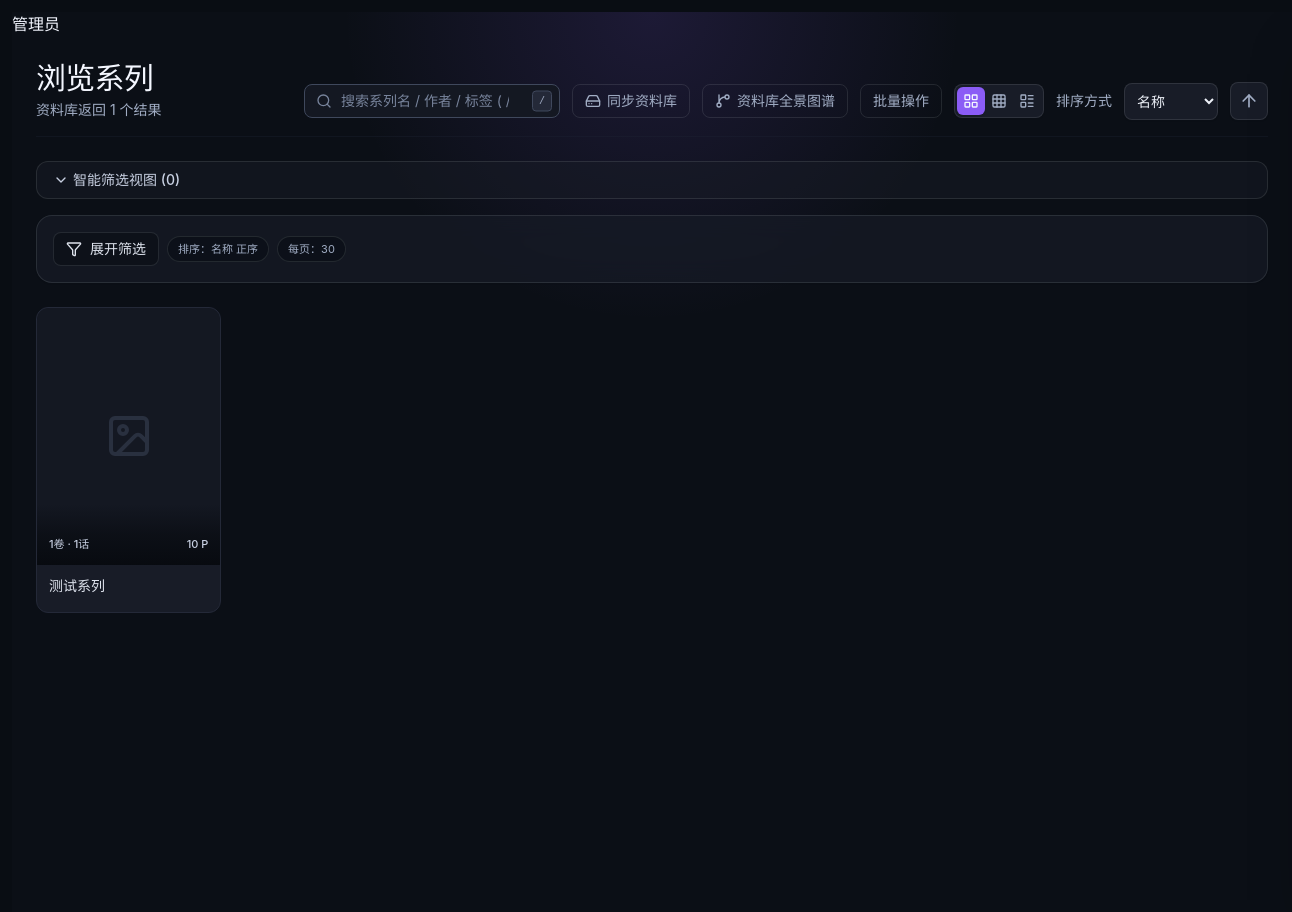
Test: 资料库页的管理员动作 › 管理员一切照旧：卡片动作与整条批量操作栏都在
Expected: the text "管理员" is shown, left=12, top=14, right=60, bottom=34
Click the button "批量操作".
click(901, 101)  # box left=860, top=84, right=942, bottom=118
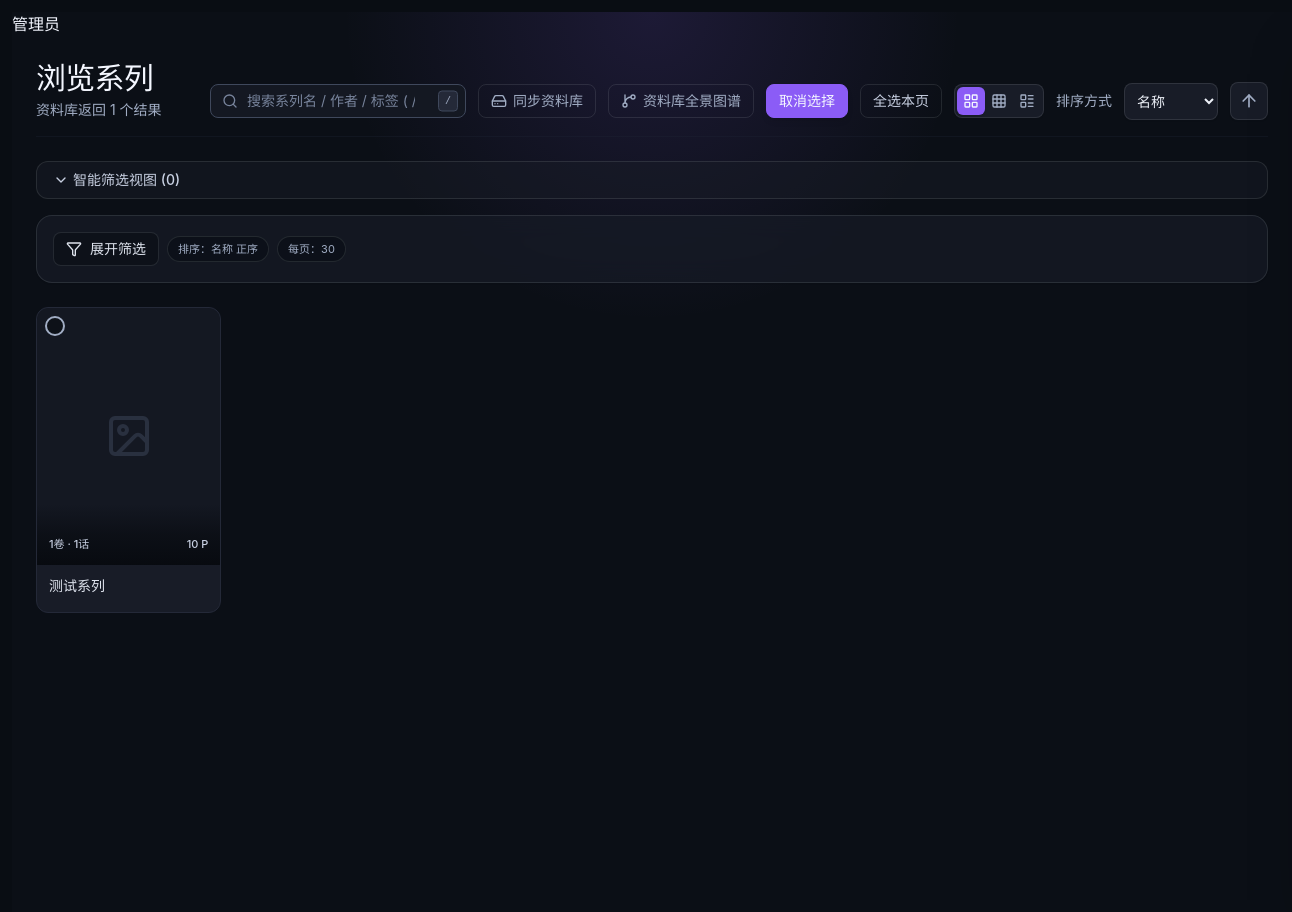
Click the button "全选本页".
click(901, 101)  # box left=860, top=84, right=942, bottom=118
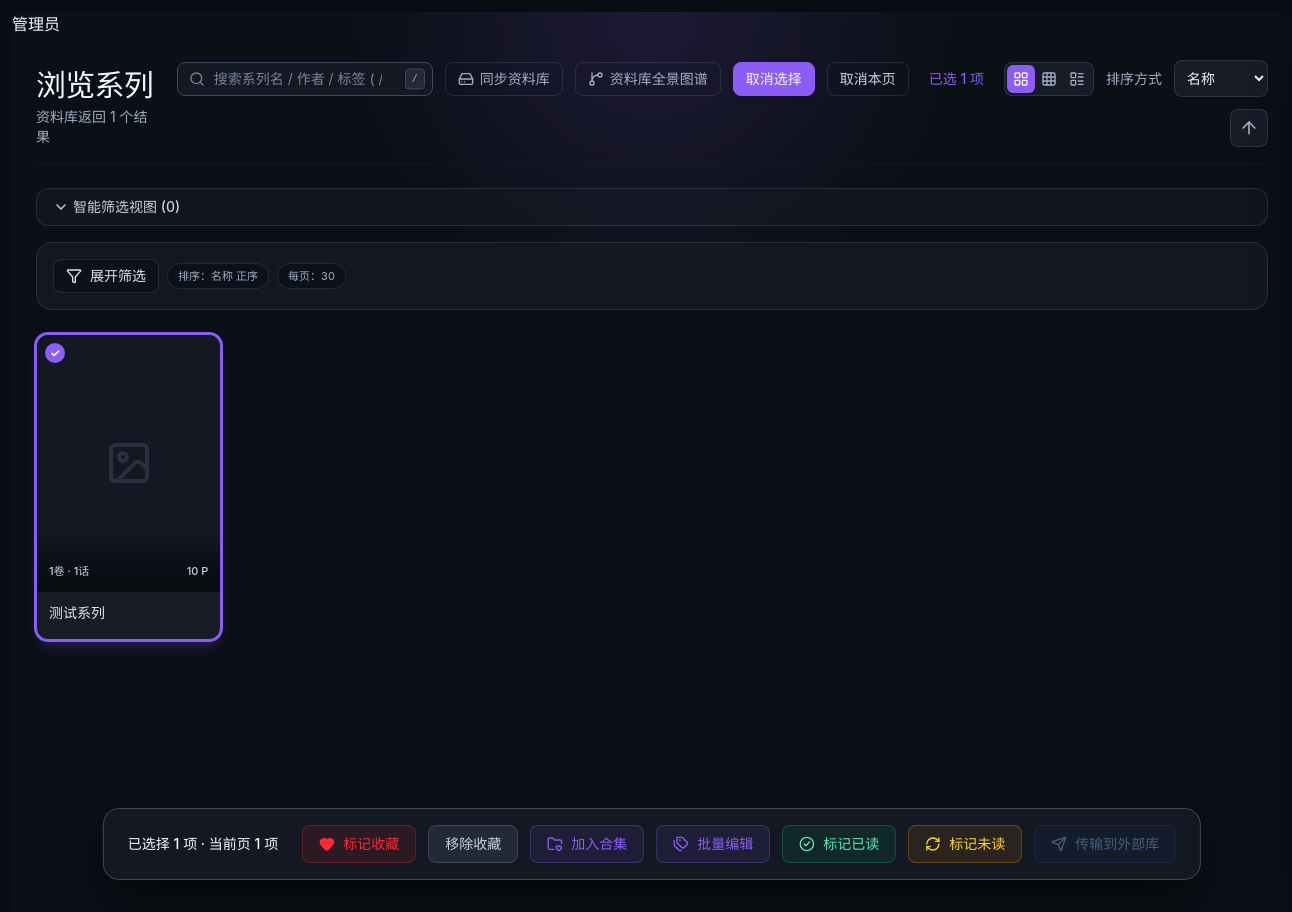
Expected: the button "标记收藏" is shown, left=302, top=825, right=416, bottom=863
Expected: the button "加入合集" is shown, left=530, top=825, right=644, bottom=863
Expected: the button "批量编辑" is shown, left=656, top=825, right=770, bottom=863
